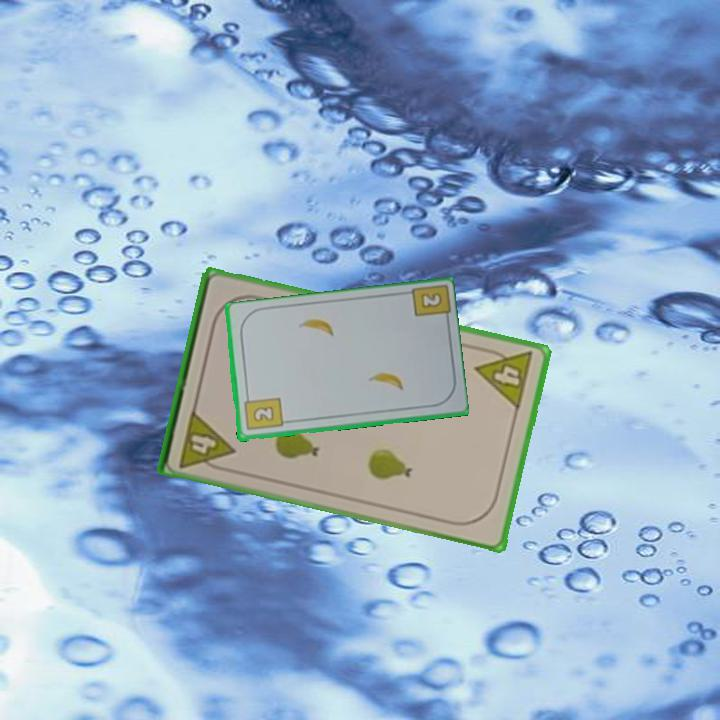2b: (240, 391, 285, 433), (417, 289, 445, 311)
4p: (472, 342, 537, 413), (176, 406, 237, 475)
